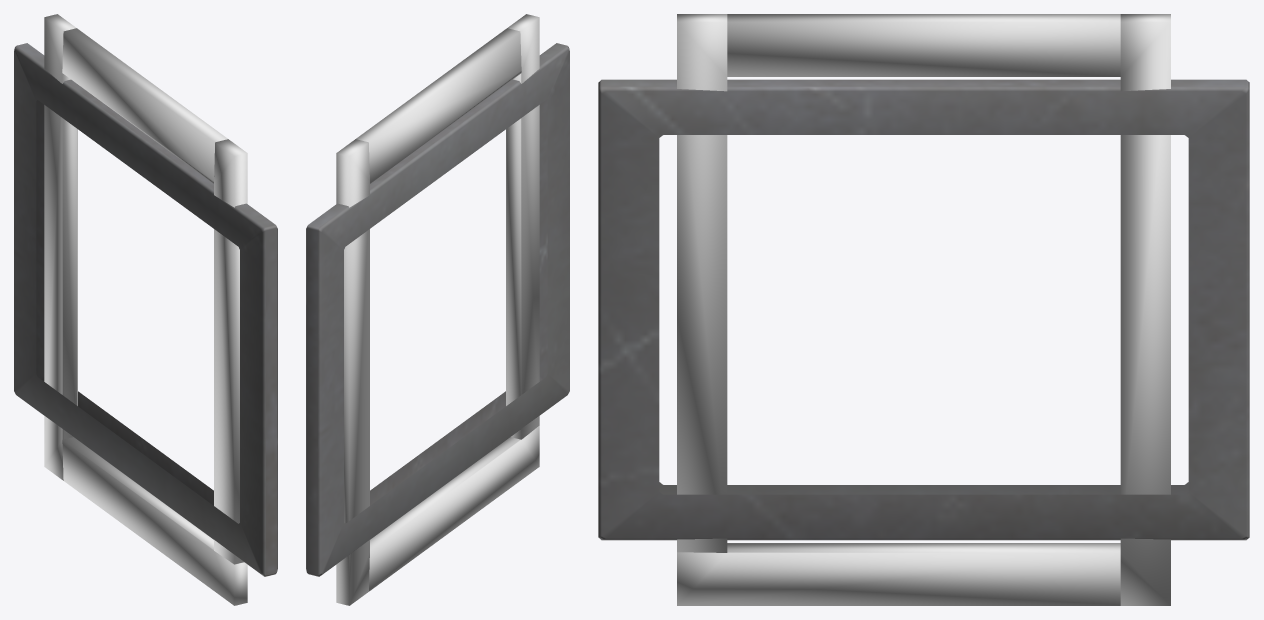
Rendered from SM_Vent_Contour.fbx.
3 views of the same model, side by side, from view 1: azimuth 30°, elevation 25°; view 2: azimuth 150°, elevation 25°; view 3: azimuth 270°, elevation 25° (orthographic). The views are drawn at different scales.
Parts seen in each view (by area): view 1: SM_Vent_Contour, SM_Vent_Contour_ConvexHulls; view 2: SM_Vent_Contour, SM_Vent_Contour_ConvexHulls; view 3: SM_Vent_Contour, SM_Vent_Contour_ConvexHulls.
Boxes of the visible parts, left/top/right/bottom form: SM_Vent_Contour: left=14, top=43, right=277, bottom=576; SM_Vent_Contour_ConvexHulls: left=44, top=14, right=247, bottom=605; SM_Vent_Contour: left=306, top=43, right=569, bottom=576; SM_Vent_Contour_ConvexHulls: left=336, top=14, right=539, bottom=605; SM_Vent_Contour: left=598, top=79, right=1249, bottom=540; SM_Vent_Contour_ConvexHulls: left=677, top=14, right=1170, bottom=605.
Size of the model in its own units: 0.0389 by 1.07 by 1.08.
